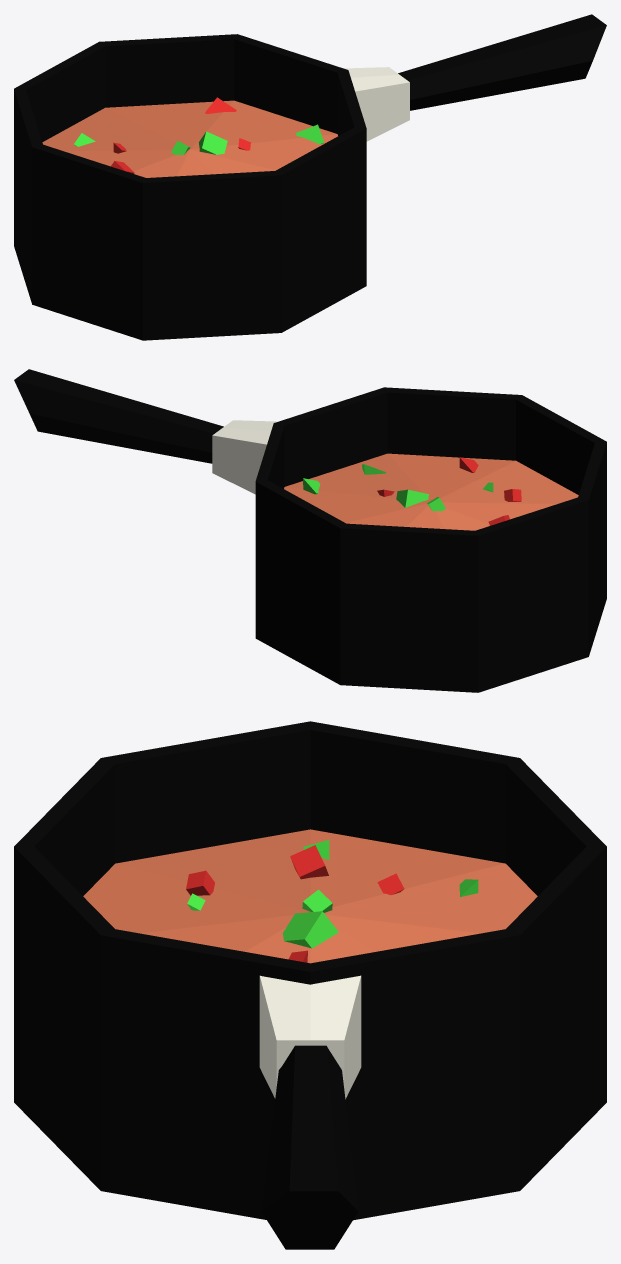
Rendered from PotWithFood.fbx.
3 views of the same model, one above another, from view 1: azimuth 30°, elevation 25°; view 2: azimuth 150°, elevation 25°; view 3: azimuth 270°, elevation 25° (orthographic). The views are drawn at different scales.
Visible parts, largest first — view 1: Cylinder; view 2: Cylinder; view 3: Cylinder.
Boxes of the visible parts, bbox=[...] form: Cylinder: bbox=[14, 14, 606, 340]; Cylinder: bbox=[14, 369, 606, 692]; Cylinder: bbox=[14, 721, 606, 1249].
Size of the model in its own units: 39.82 by 10.55 by 22.16.
